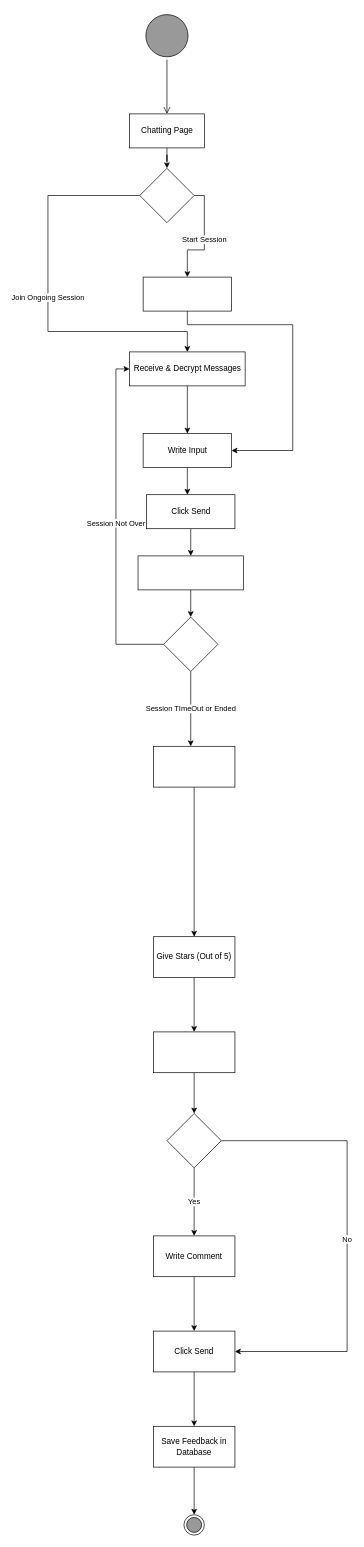
The diagram is 364 pixels wide and 1547 high, and some of its shapes have lost their labels. Each missing label, with the box of its shape:
Ask If The User Wants to Give Comment: (153, 1031, 235, 1073)
Encrypt Message & Send: (137, 555, 243, 590)
Open Chat Page: (142, 276, 232, 311)
Save Chat Into Database: (153, 746, 235, 787)
